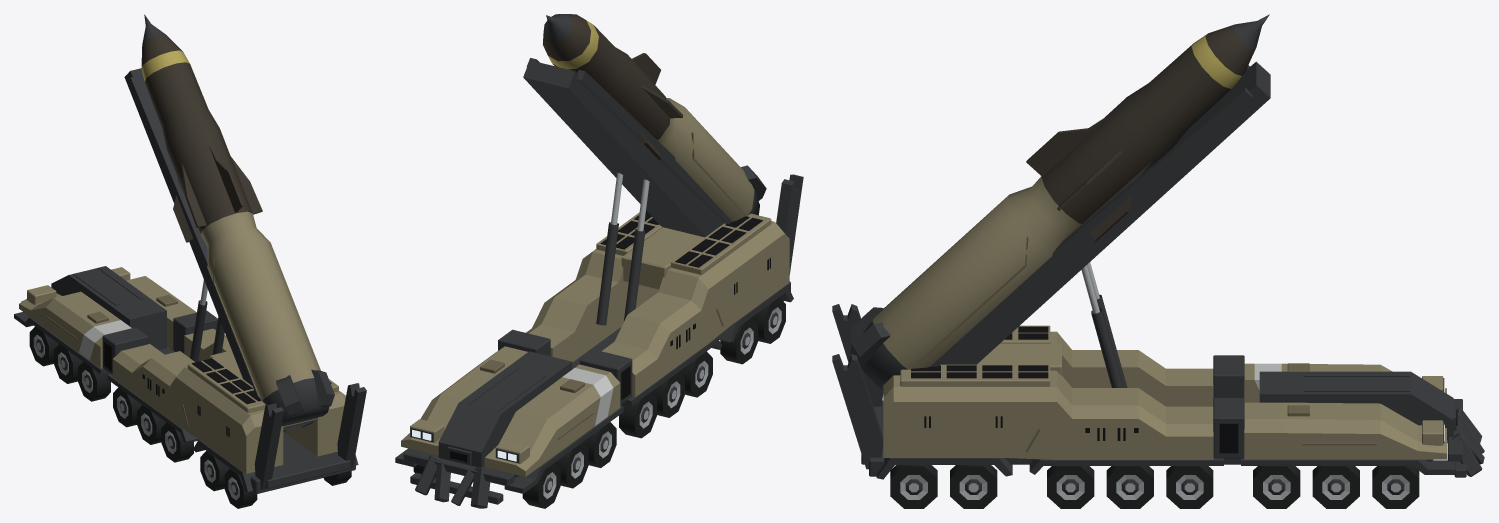
Rendered from ICBM Launcher.fbx.
3 renders of one model, left to right at view 1: azimuth 30°, elevation 25°; view 2: azimuth 150°, elevation 25°; view 3: azimuth 270°, elevation 25°, orthographic. The views are drawn at different scales.
Visible parts, largest first — view 1: Missile_Body, Rear_Superstructure_L, Front_Pod_L, Center_Dark_Hood, Rear_Superstructure_R, Missile_Cradle_Rail_-1, Chassis_Bed, Missile_Cradle_Spine, Rear_Prong_L, Rear_Prong_R, Front_Pod_R, Rear_Top_Collar_L (+23 smaller); view 2: Rear_Superstructure_L, Missile_Body, Missile_Cradle_Spine, Front_Pod_L, Rear_Superstructure_R, Center_Dark_Hood, Front_Pod_R, Rear_Center_Bridge, Missile_Cradle_Rail_-1, Rear_Top_Collar_L, Rear_Prong_L, Wheel_L_4 (+20 smaller); view 3: Missile_Body, Rear_Superstructure_R, Front_Pod_R, Missile_Cradle_Spine, Center_Dark_Hood, Rear_Superstructure_L, Missile_Cradle_Rail_1, Rear_Prong_R, Rear_Top_Collar_R, Wheel_R_8, Wheel_R_7, Wheel_R_4 (+17 smaller).
Boxes of the visible parts, box(x1,y1,x2,y2) form: Missile_Body: box(141, 14, 329, 430); Rear_Superstructure_L: box(112, 344, 283, 473); Front_Pod_L: box(19, 291, 131, 368); Center_Dark_Hood: box(51, 266, 166, 349); Rear_Superstructure_R: box(184, 328, 345, 456); Missile_Cradle_Rail_-1: box(127, 76, 255, 391); Chassis_Bed: box(159, 346, 350, 488); Missile_Cradle_Spine: box(124, 68, 251, 385); Rear_Prong_L: box(254, 403, 283, 489); Rear_Prong_R: box(337, 383, 366, 468); Front_Pod_R: box(126, 276, 196, 350); Rear_Top_Collar_L: box(187, 358, 265, 412); Rear_Superstructure_L: box(602, 221, 789, 397); Missile_Body: box(542, 14, 759, 223); Missile_Cradle_Spine: box(523, 60, 723, 237); Front_Pod_L: box(484, 364, 620, 476); Rear_Superstructure_R: box(526, 249, 658, 362); Center_Dark_Hood: box(438, 351, 572, 467); Front_Pod_R: box(401, 346, 527, 455); Rear_Center_Bridge: box(621, 227, 703, 289); Missile_Cradle_Rail_-1: box(577, 69, 732, 223); Rear_Top_Collar_L: box(670, 213, 771, 274); Rear_Prong_L: box(776, 174, 803, 274); Wheel_L_4: box(619, 392, 656, 438); Missile_Body: box(862, 14, 1269, 389); Rear_Superstructure_R: box(883, 370, 1213, 459); Front_Pod_R: box(1244, 402, 1446, 459); Missile_Cradle_Spine: box(940, 61, 1270, 364); Center_Dark_Hood: box(1259, 371, 1453, 440); Rear_Superstructure_L: box(1050, 331, 1213, 406); Missile_Cradle_Rail_1: box(931, 87, 1252, 366); Rear_Prong_R: box(832, 354, 883, 469); Rear_Top_Collar_R: box(900, 364, 1050, 386); Wheel_R_8: box(890, 465, 937, 508); Wheel_R_7: box(950, 465, 997, 508); Wheel_R_4: box(1166, 466, 1213, 508).
Bounding box in the file's own units: 464 × 1498 × 1916.
